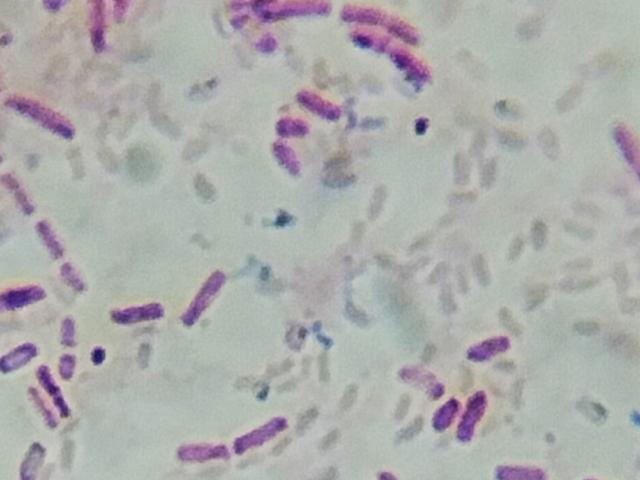E. coli: (352, 33, 430, 85), (178, 259, 226, 330), (233, 407, 301, 454), (8, 89, 68, 136), (345, 5, 413, 35), (458, 387, 488, 451), (29, 369, 64, 422), (172, 436, 223, 472), (224, 0, 339, 15), (74, 0, 111, 46), (293, 83, 335, 118), (3, 165, 30, 216), (111, 299, 160, 327), (473, 327, 510, 362), (487, 454, 533, 480), (38, 222, 67, 263), (2, 280, 42, 309), (268, 140, 302, 173), (1, 336, 33, 369), (428, 387, 450, 429), (55, 267, 87, 295), (276, 115, 303, 139), (61, 352, 76, 382), (63, 319, 80, 344)
